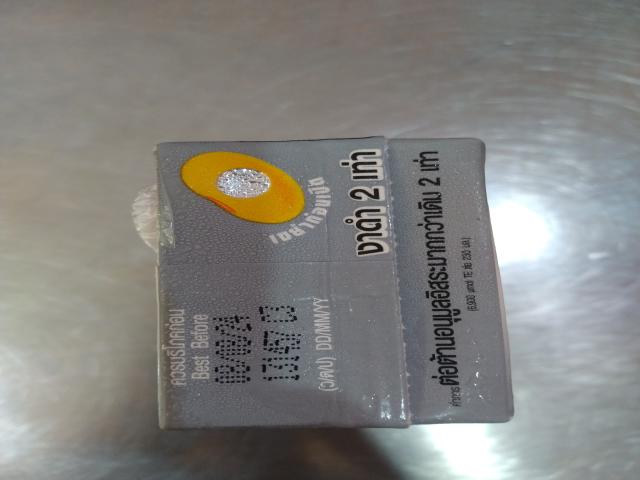drink_box: (126, 119, 557, 442)
